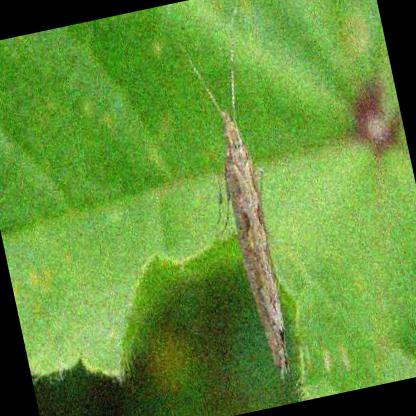plutella: (184, 22, 285, 379)
